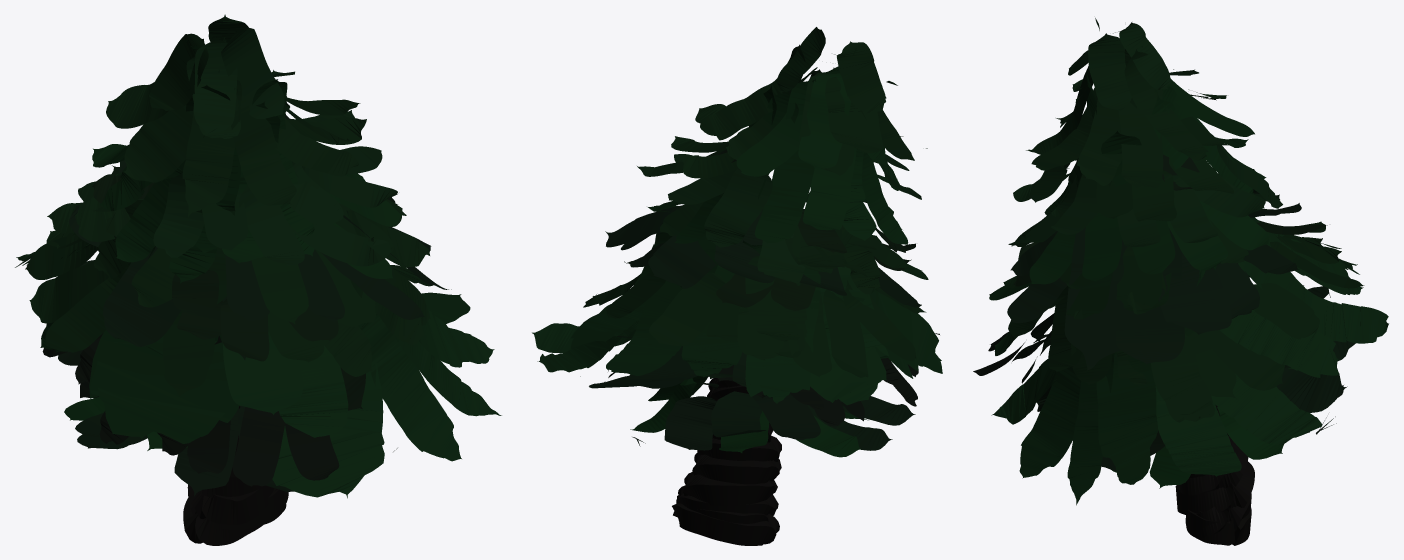
Rendered from Tree.fbx.
3 renders of one model, left to right at view 1: azimuth 30°, elevation 25°; view 2: azimuth 150°, elevation 25°; view 3: azimuth 270°, elevation 25°, orthographic. The views are drawn at different scales.
Parts seen in each view (by area): view 1: NewLayer4; view 2: NewLayer4; view 3: NewLayer4.
Boxes of the visible parts, x1,y1,x2,y2 form: NewLayer4: (15, 14, 501, 545); NewLayer4: (532, 27, 942, 545); NewLayer4: (973, 18, 1388, 545).
Size of the model in its own units: 1.05 by 1.33 by 1.02.
